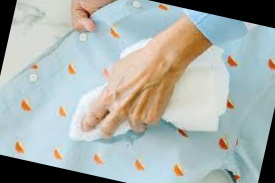oil: (99, 132, 124, 150), (122, 131, 142, 146)
